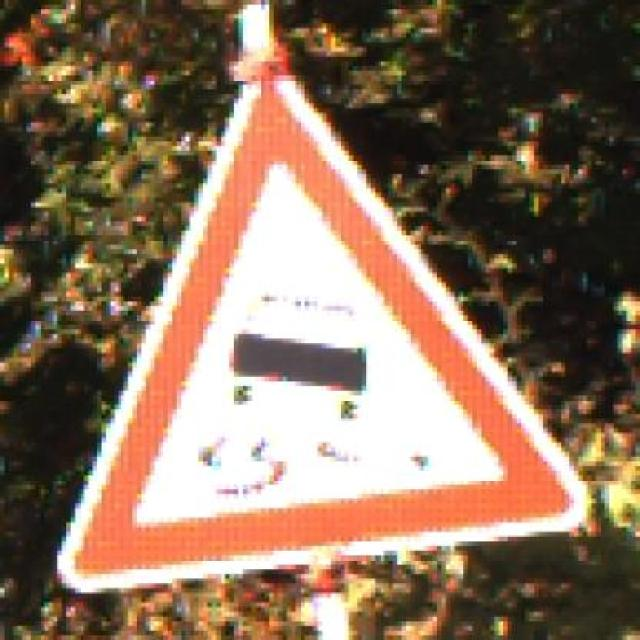Slippery Road Ahead: (44, 70, 601, 593)
